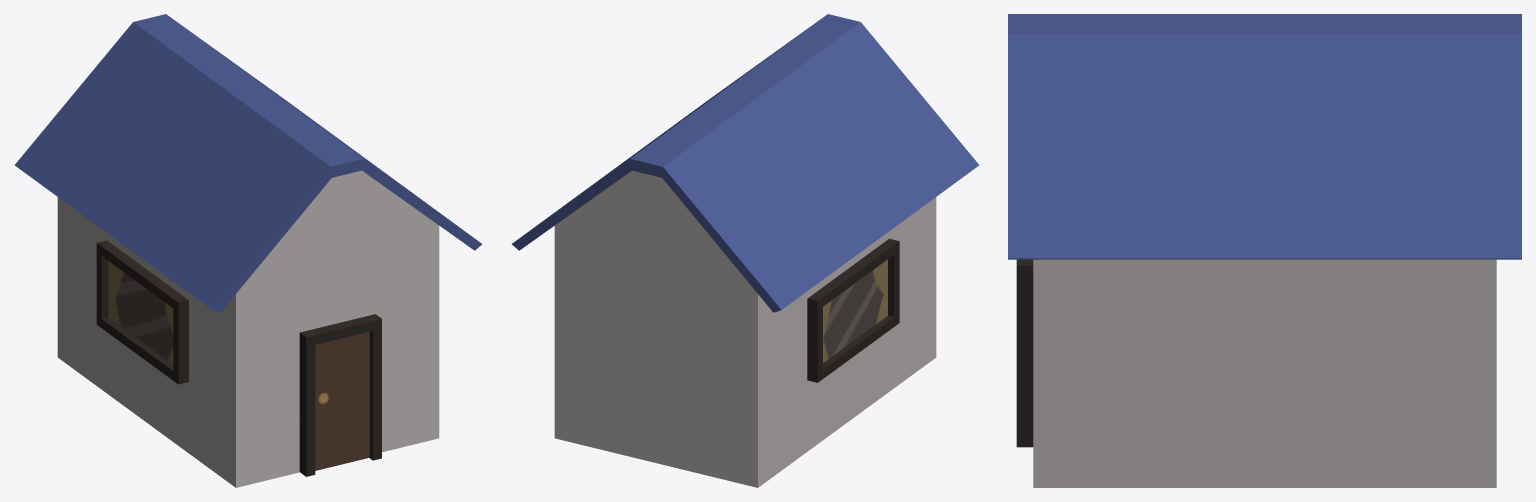
File: BasicHouse.fbx
3 renders of one model, left to right at view 1: azimuth 30°, elevation 25°; view 2: azimuth 150°, elevation 25°; view 3: azimuth 270°, elevation 25°, orthographic. The views are drawn at different scales.
Visible parts, largest first — view 1: BasicHouse; view 2: BasicHouse; view 3: BasicHouse.
Part boxes in pixels (left/top/right/bottom): BasicHouse: left=14, top=14, right=482, bottom=487; BasicHouse: left=511, top=14, right=979, bottom=487; BasicHouse: left=1008, top=14, right=1521, bottom=487.
Bounding box in the file's own units: 2.66 × 2.89 × 3.37.
